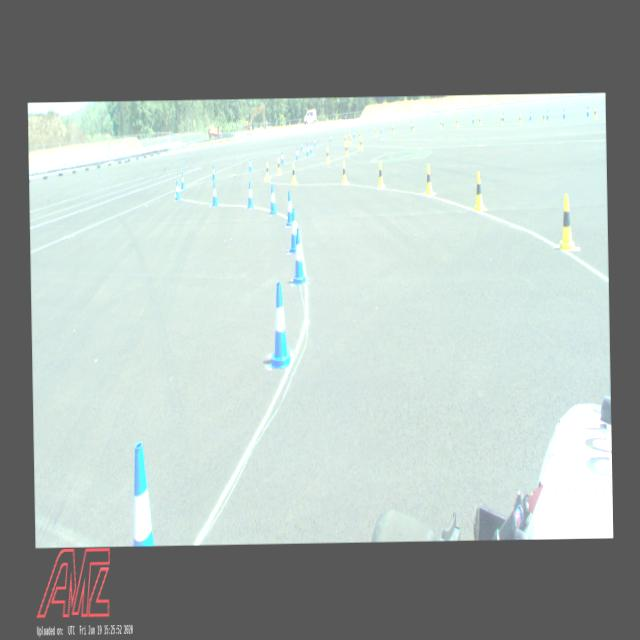blue_cone: (132, 439, 154, 544), (270, 282, 292, 368), (292, 228, 306, 284), (288, 208, 299, 252), (285, 191, 293, 225), (268, 184, 276, 214), (246, 180, 254, 208), (212, 182, 218, 205), (174, 180, 180, 200), (212, 163, 216, 180), (180, 172, 184, 188), (248, 158, 252, 172), (280, 150, 284, 164), (295, 146, 299, 160), (306, 141, 309, 156), (309, 142, 312, 153), (586, 106, 589, 116), (562, 108, 565, 117), (329, 134, 332, 142), (300, 141, 302, 151), (314, 136, 316, 146), (410, 120, 412, 130), (502, 112, 504, 121), (472, 114, 474, 123), (529, 111, 531, 120), (380, 125, 382, 134), (353, 130, 355, 138), (546, 110, 548, 118), (442, 118, 444, 126)
yellow_cone: (558, 194, 574, 249), (472, 170, 484, 212), (424, 163, 432, 194), (378, 161, 384, 187), (341, 160, 347, 183), (291, 162, 296, 184), (266, 161, 270, 179), (277, 158, 281, 174), (344, 141, 348, 156), (518, 113, 522, 124), (542, 112, 545, 123), (326, 146, 328, 162), (349, 135, 352, 145), (348, 132, 351, 142), (439, 119, 442, 128), (360, 138, 362, 150), (478, 116, 481, 124), (594, 107, 596, 118), (500, 114, 502, 125), (344, 134, 346, 144), (359, 130, 361, 140), (456, 117, 458, 126), (392, 124, 394, 133), (374, 127, 376, 136), (412, 122, 414, 130)
